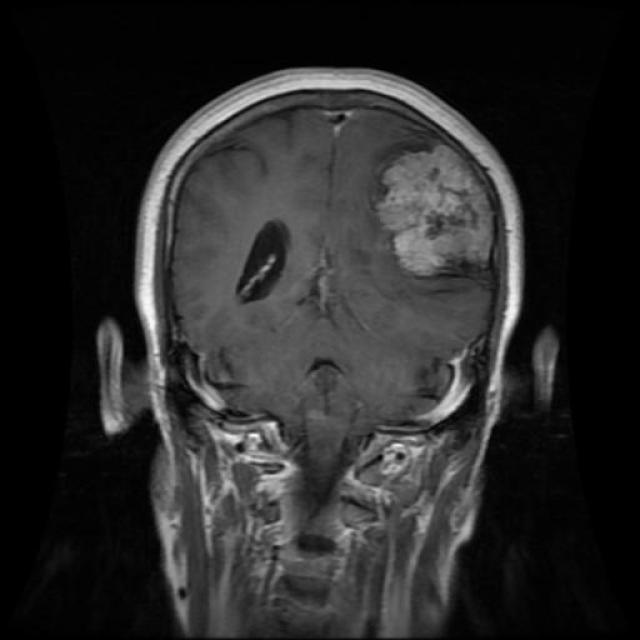meningioma: (376, 146, 491, 276)
